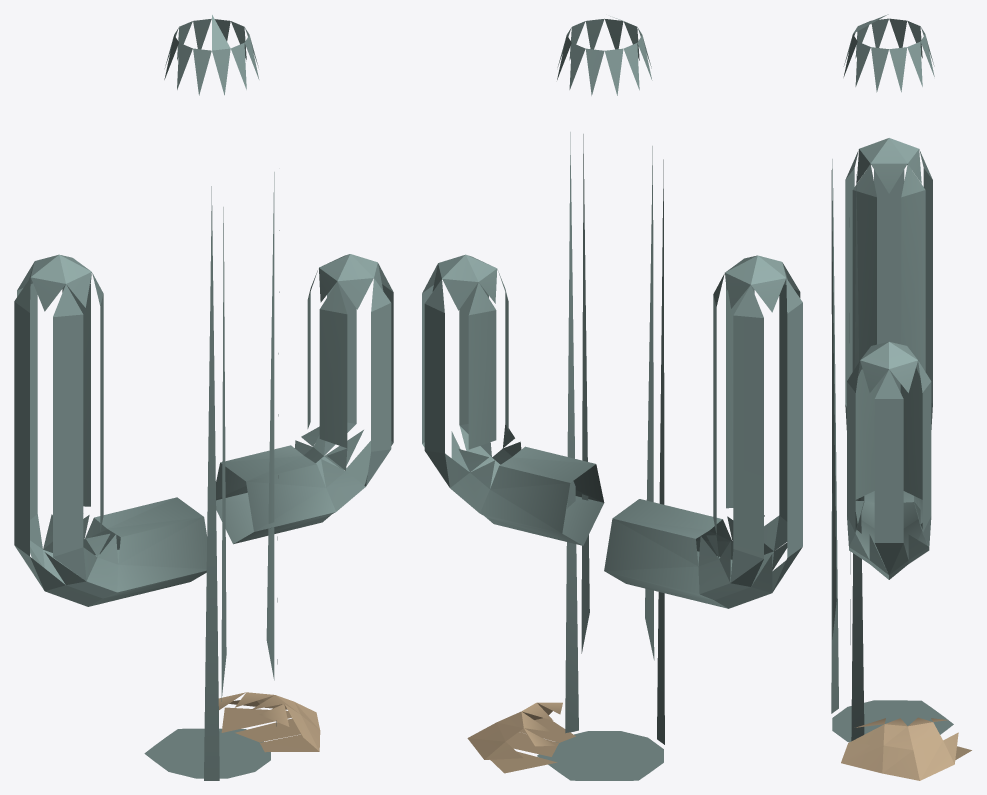
Rendered from saguaro.lod.glb.
3 views of the same model, side by side, from view 1: azimuth 30°, elevation 25°; view 2: azimuth 150°, elevation 25°; view 3: azimuth 270°, elevation 25° (orthographic). The views are drawn at different scales.
Parts seen in each view (by area): view 1: saguaro; view 2: saguaro; view 3: saguaro.
Boxes of the visible parts, x1,y1,x2,y2 form: saguaro: [14, 15, 393, 780]; saguaro: [422, 16, 802, 780]; saguaro: [831, 14, 971, 780].
Bounding box in the file's own units: 2.58 × 5 × 0.9002.
